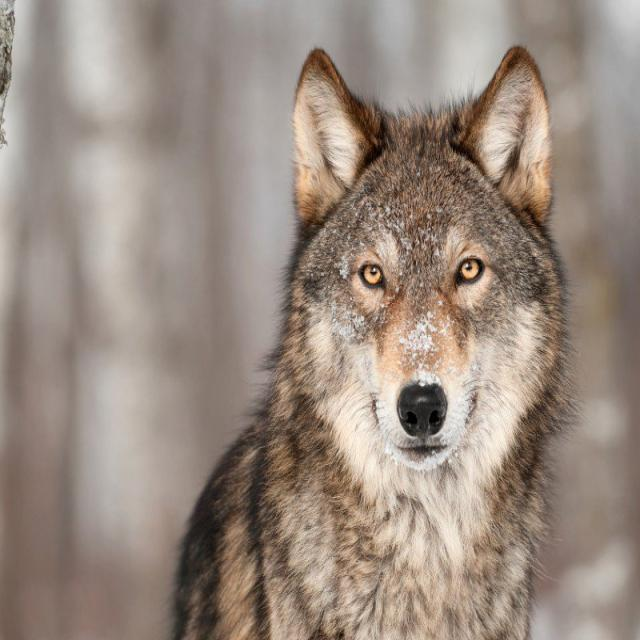Wolf: (169, 43, 582, 638)
